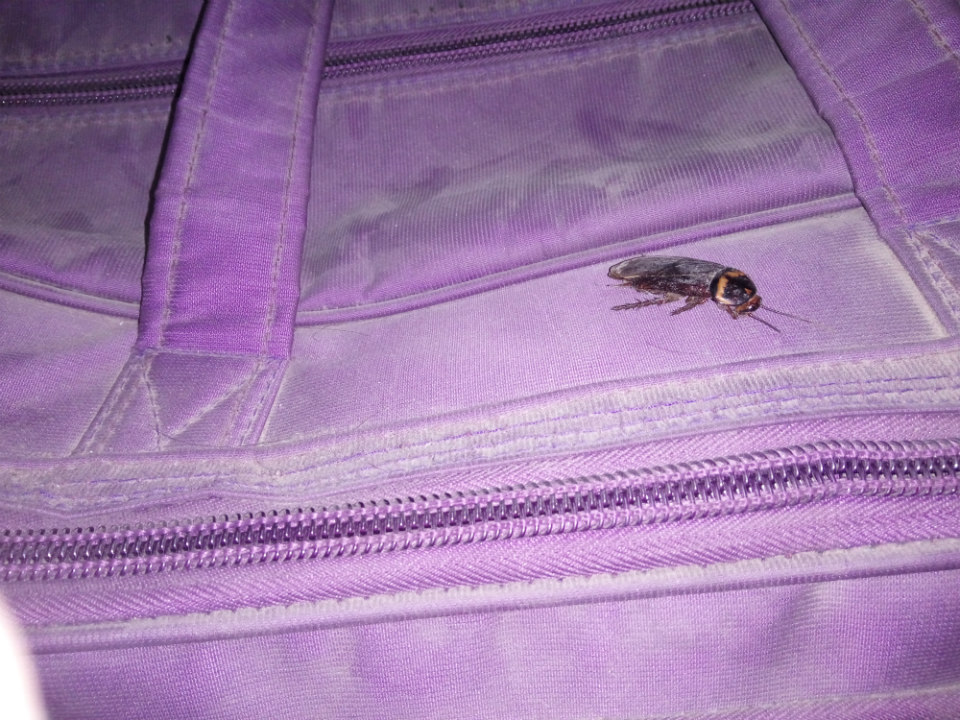cockroach: (550, 227, 826, 342)
